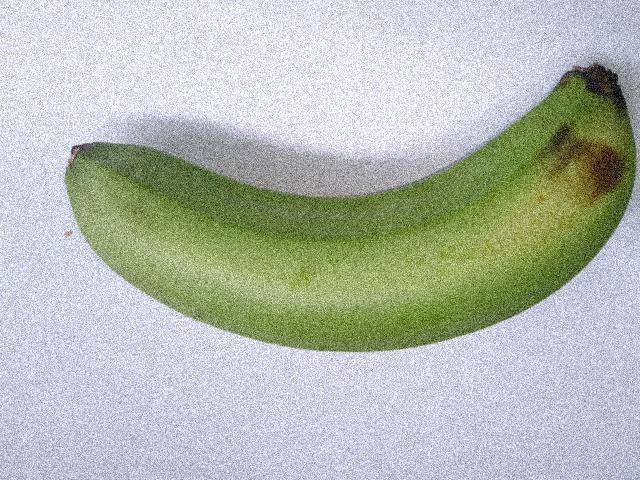freshunripe: (52, 54, 639, 366)
